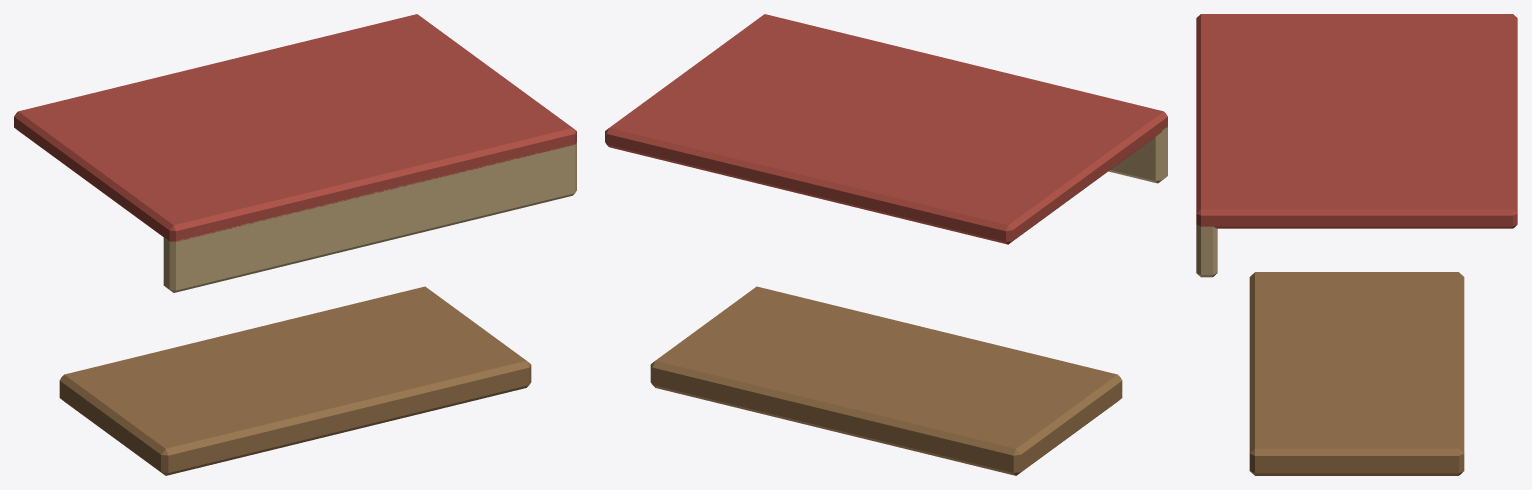
The model's file is objects-market-stall.lod0.glb.
3 renders of one model, left to right at view 1: azimuth 30°, elevation 25°; view 2: azimuth 150°, elevation 25°; view 3: azimuth 270°, elevation 25°, orthographic.
Parts seen in each view (by area): view 1: objects-market-stall__body; view 2: objects-market-stall__body; view 3: objects-market-stall__body.
Boxes of the visible parts, left/top/right/bottom form: objects-market-stall__body: left=14, top=14, right=576, bottom=475; objects-market-stall__body: left=605, top=14, right=1167, bottom=475; objects-market-stall__body: left=1196, top=14, right=1517, bottom=475.
Bounding box in the file's own units: 2.2 × 1.42 × 1.5.
